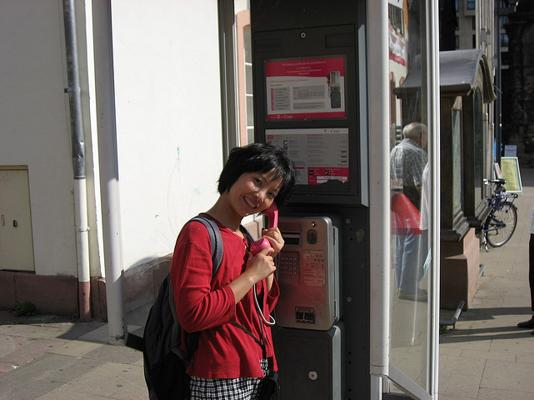person: (169, 143, 298, 400)
